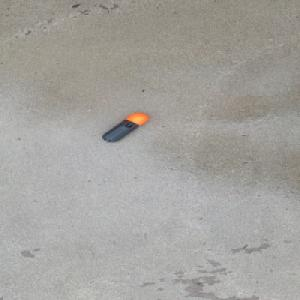PlasticPart: (101, 112, 149, 142)
